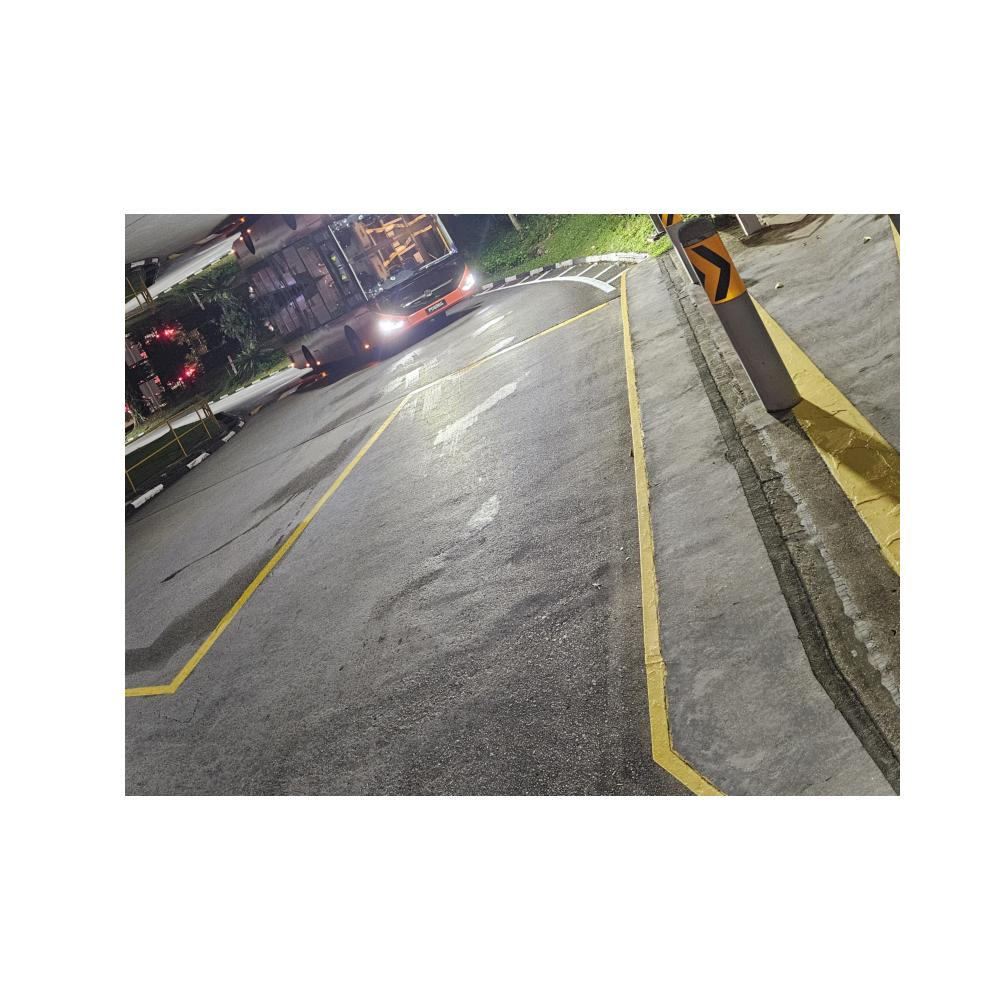bus: (227, 213, 480, 380)
